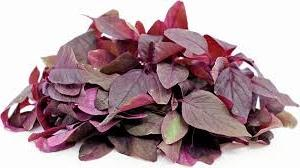amaranth: (1, 0, 298, 165), (84, 2, 191, 109)
